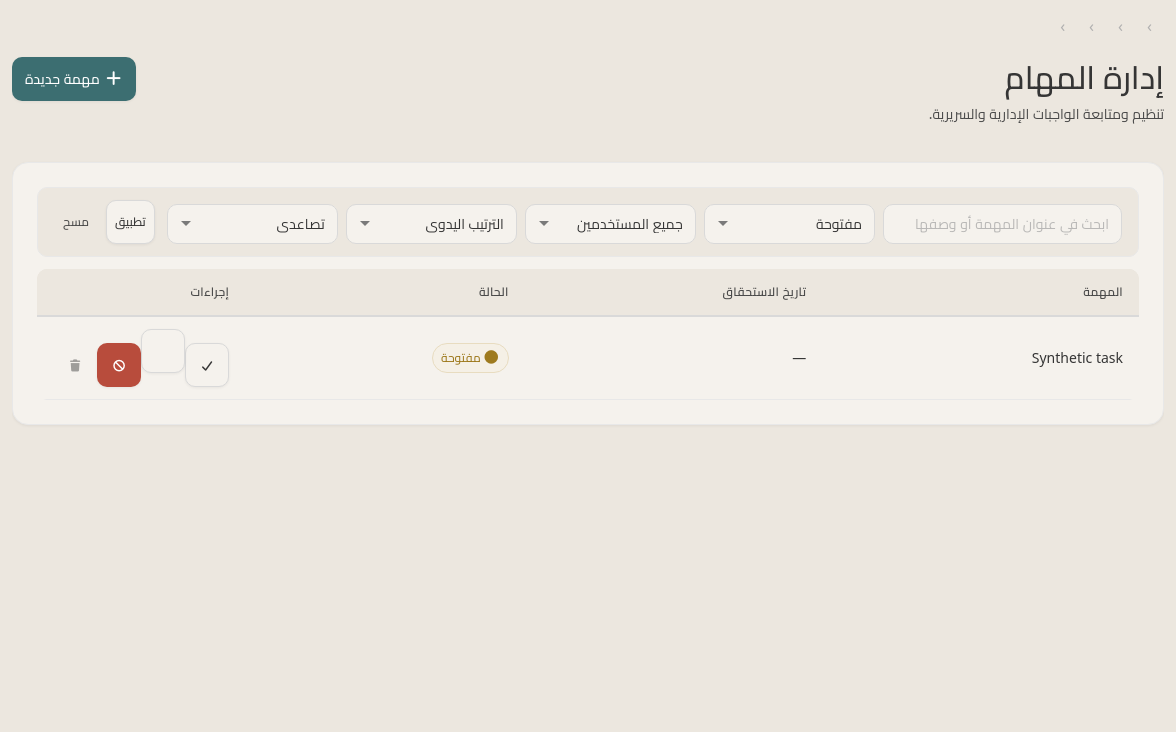
Test: task lifecycle controls preserve the rendered version and draft › a successful transition reapplies the active status filter to the rendered rows
Step 1. Click the button titled "بدء التنفيذ" → (163, 351), box [141,329,185,373]
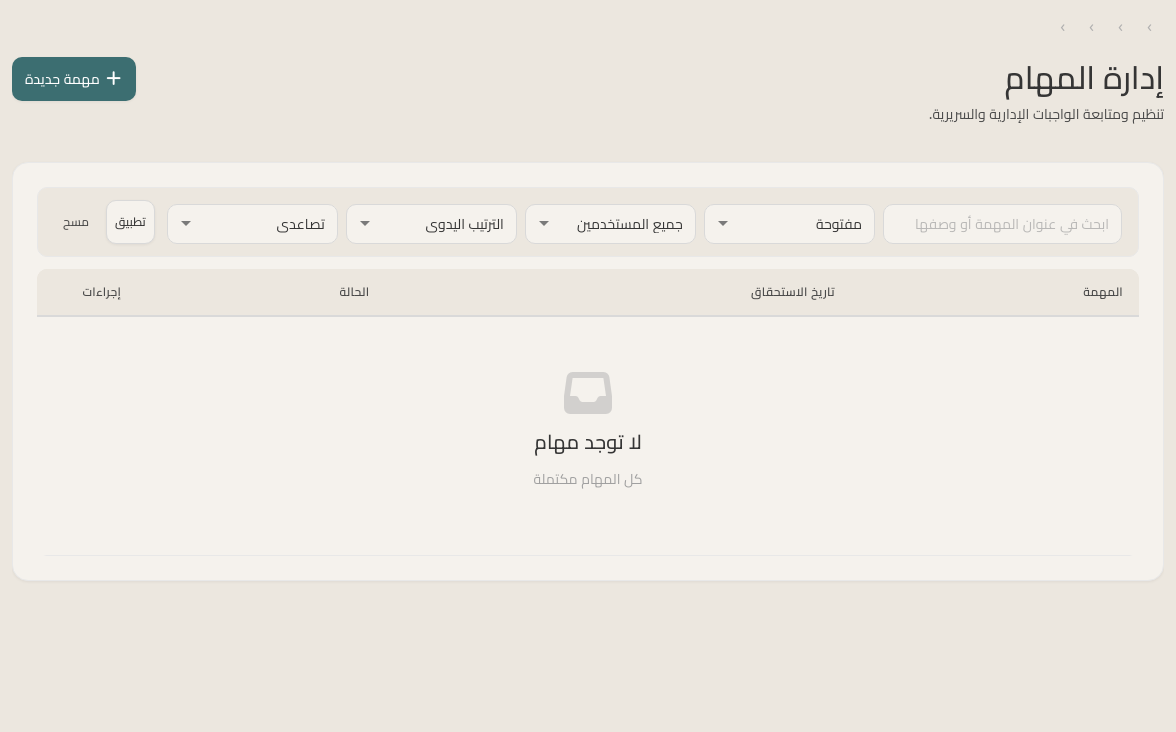
expect the text "Synthetic task" is gone: met
